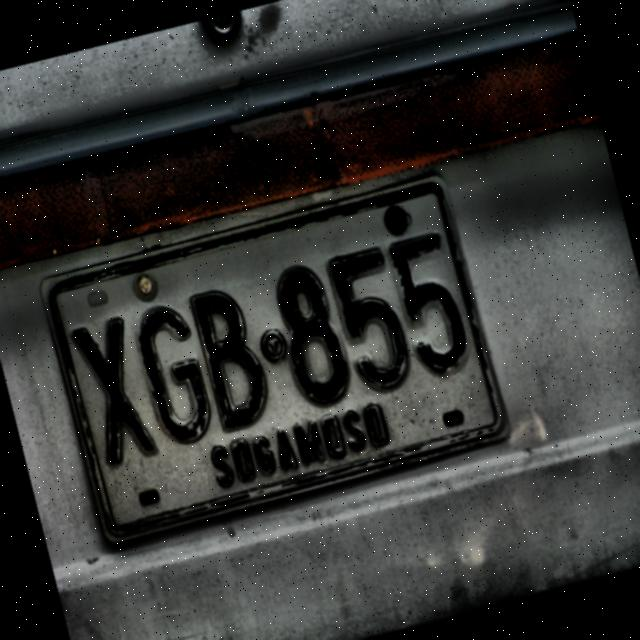plate: (39, 174, 508, 544)
